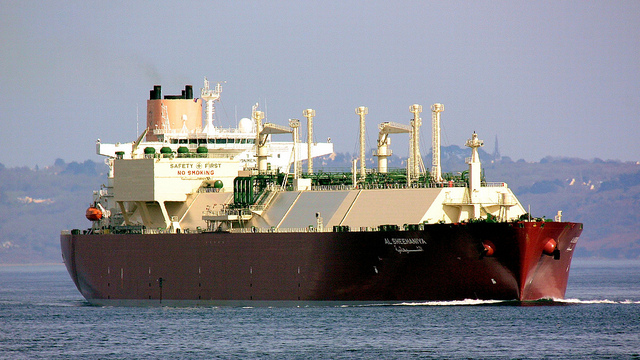LNG_ship: (60, 69, 593, 297)
